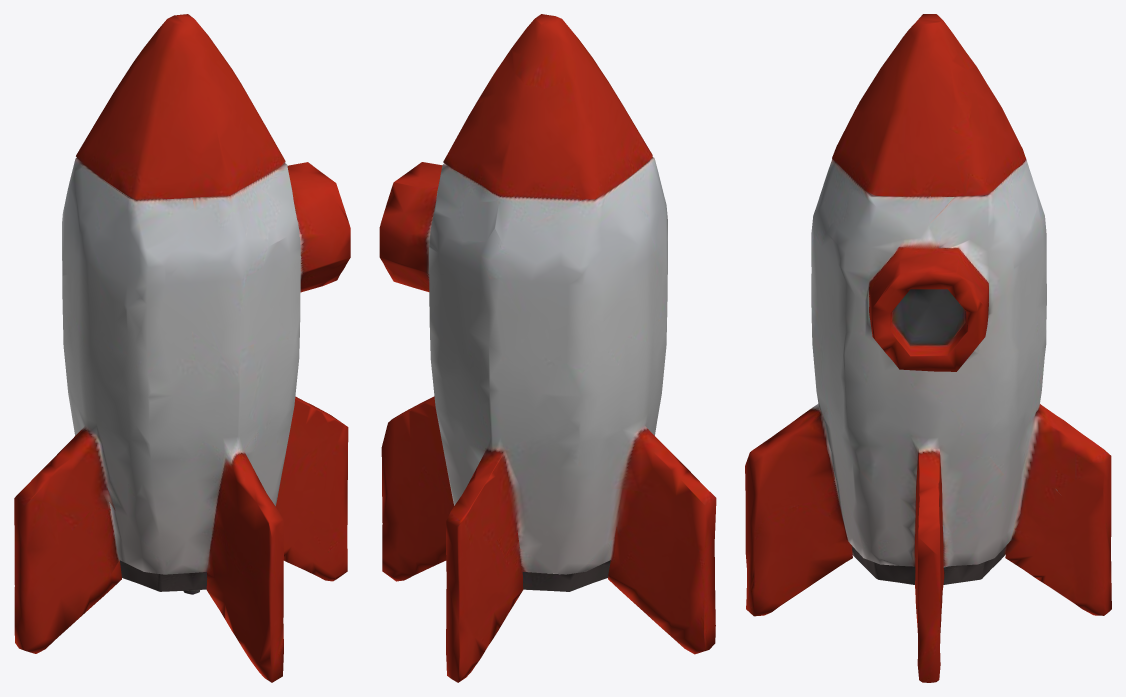
The model's file is hero-rocket.glb.
3 views of the same model, side by side, from view 1: azimuth 30°, elevation 25°; view 2: azimuth 150°, elevation 25°; view 3: azimuth 270°, elevation 25° (orthographic).
Parts seen in each view (by area): view 1: tripo_node_44a80003-d759-4f0f-a7e7-ef427e2da6fc; view 2: tripo_node_44a80003-d759-4f0f-a7e7-ef427e2da6fc; view 3: tripo_node_44a80003-d759-4f0f-a7e7-ef427e2da6fc.
Boxes of the visible parts, x1,y1,x2,y2 form: tripo_node_44a80003-d759-4f0f-a7e7-ef427e2da6fc: [14, 14, 350, 682]; tripo_node_44a80003-d759-4f0f-a7e7-ef427e2da6fc: [379, 14, 716, 682]; tripo_node_44a80003-d759-4f0f-a7e7-ef427e2da6fc: [745, 14, 1111, 682].
Bounding box in the file's own units: 0.5681 × 1 × 0.5624.
1 material, 1 textured.
